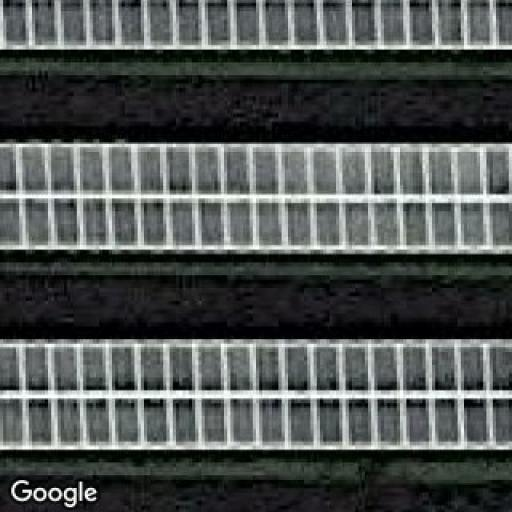solar-panel: (0, 138, 512, 254), (0, 342, 512, 448), (0, 0, 512, 53)
